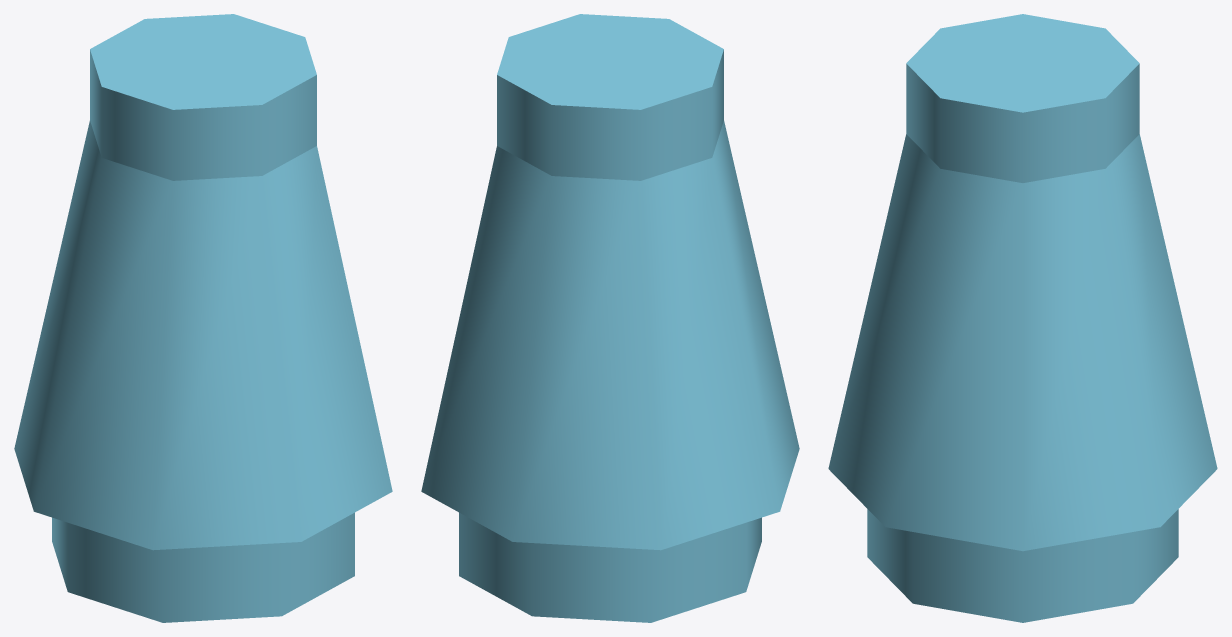
The model's file is Lamp1.obj.
3 views of the same model, side by side, from view 1: azimuth 30°, elevation 25°; view 2: azimuth 150°, elevation 25°; view 3: azimuth 270°, elevation 25° (orthographic).
Parts seen in each view (by area): view 1: Mesh_0151.001_Mesh_0151Mesh.001; view 2: Mesh_0151.001_Mesh_0151Mesh.001; view 3: Mesh_0151.001_Mesh_0151Mesh.001.
Part boxes in pixels (box(x1,y1,x2,y2)): Mesh_0151.001_Mesh_0151Mesh.001: box(14, 14, 392, 622); Mesh_0151.001_Mesh_0151Mesh.001: box(421, 14, 799, 622); Mesh_0151.001_Mesh_0151Mesh.001: box(828, 14, 1217, 622).
Size of the model in its own units: 0.0762 by 0.1067 by 0.0762.
1 material, 1 textured.
